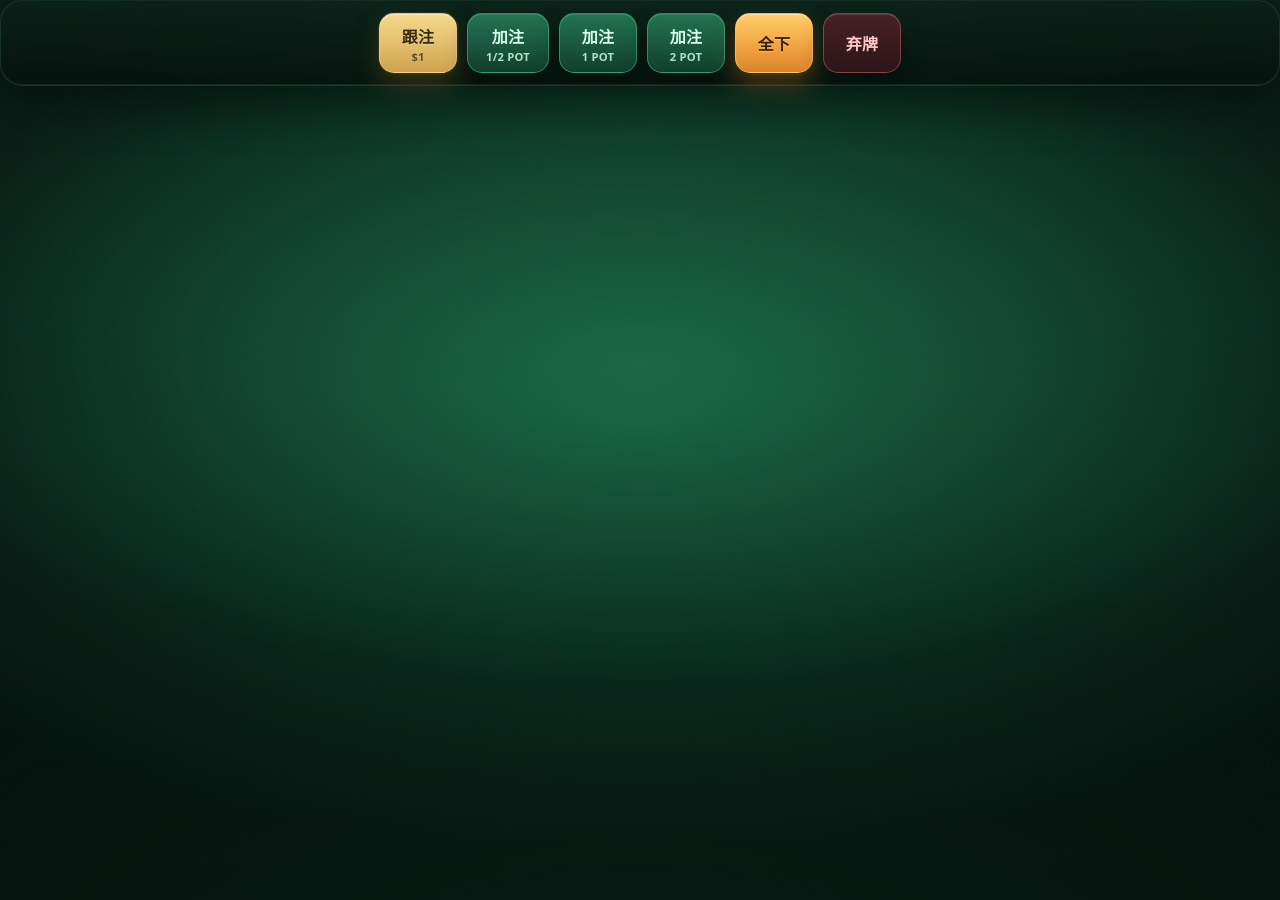
Test: insufficient chips shows a friendly notice and does not bet
The image size is (1280, 900).
What coordinates should you click on to do the following:
click the button with test id "raise-half-pot-action-button"
I would click on:
 (508, 43)
Its box is [467,13,549,73].
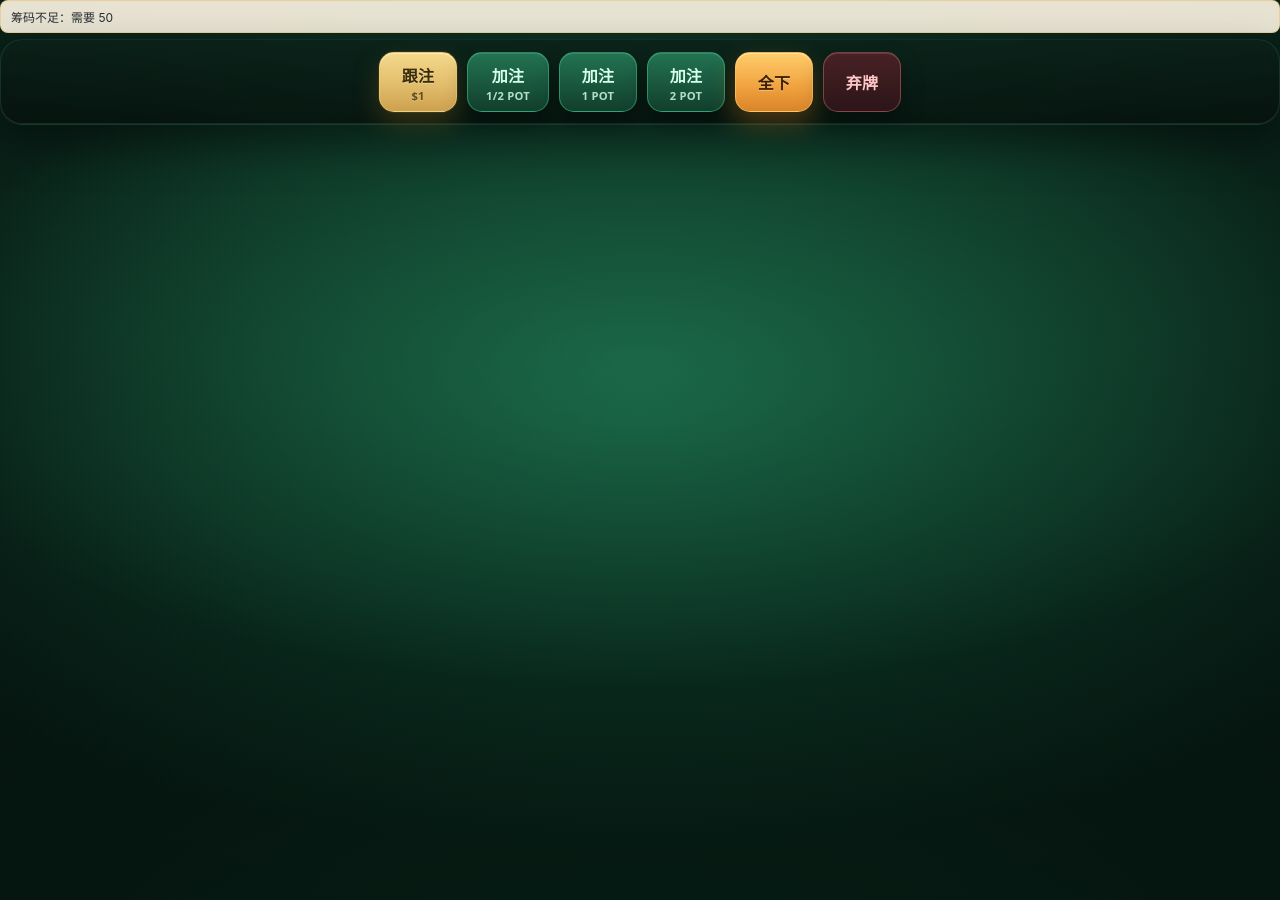
Check: the message with test id "action-notice" reads "筹码不足：需要 50", box [11,10,113,25]
